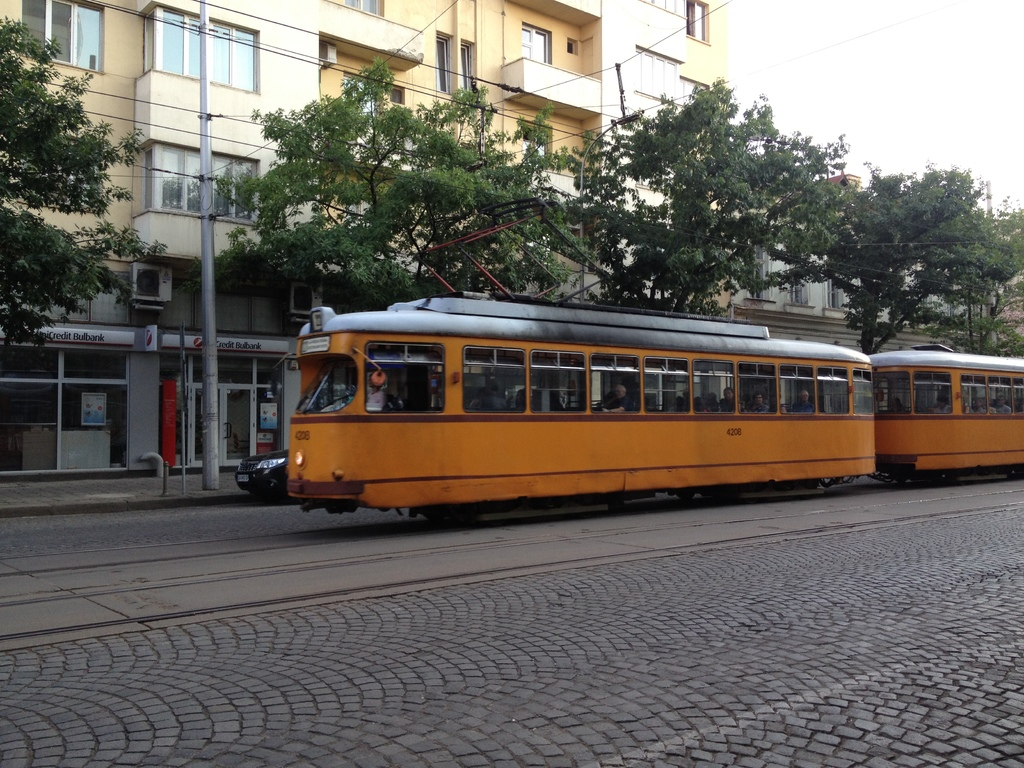Car: (235, 448, 288, 499)
